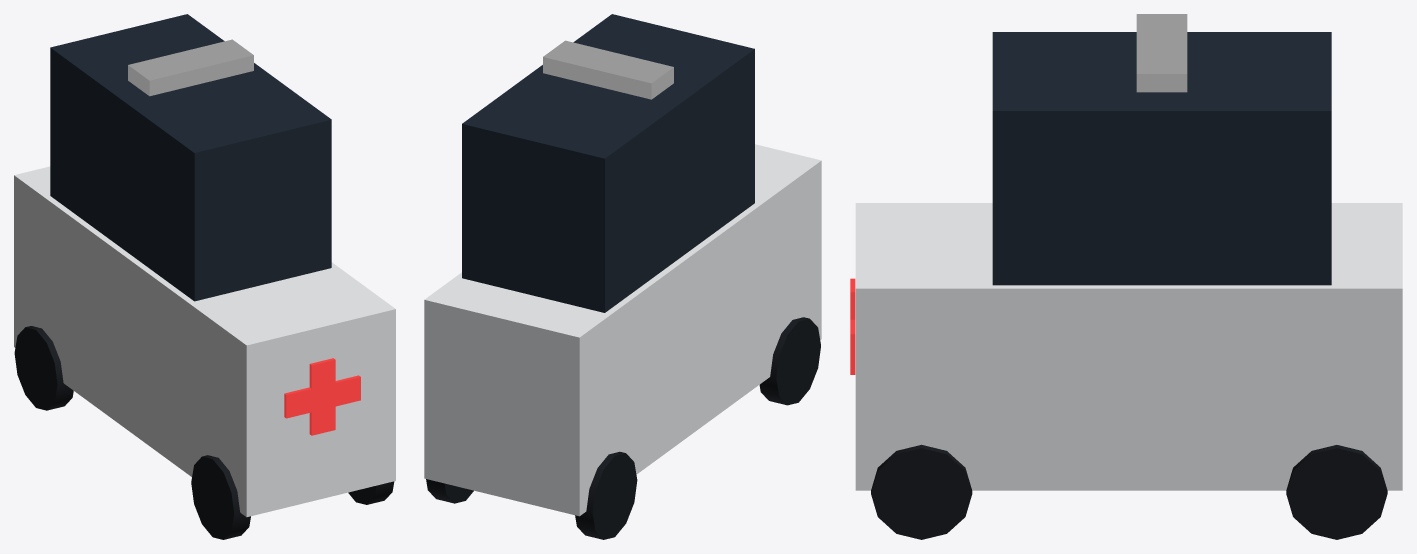
The model's file is ambulance.glb.
3 renders of one model, left to right at view 1: azimuth 30°, elevation 25°; view 2: azimuth 150°, elevation 25°; view 3: azimuth 270°, elevation 25°, orthographic. The views are drawn at different scales.
Parts seen in each view (by area): view 1: genesis-procedural-ambulance; view 2: genesis-procedural-ambulance; view 3: genesis-procedural-ambulance.
Part boxes in pixels (x1=…): genesis-procedural-ambulance: x1=14, y1=14, x2=395, y2=539; genesis-procedural-ambulance: x1=424, y1=14, x2=821, y2=539; genesis-procedural-ambulance: x1=850, y1=14, x2=1402, y2=539.
Bounding box in the file's own units: 0.216 × 0.49 × 0.5455.
